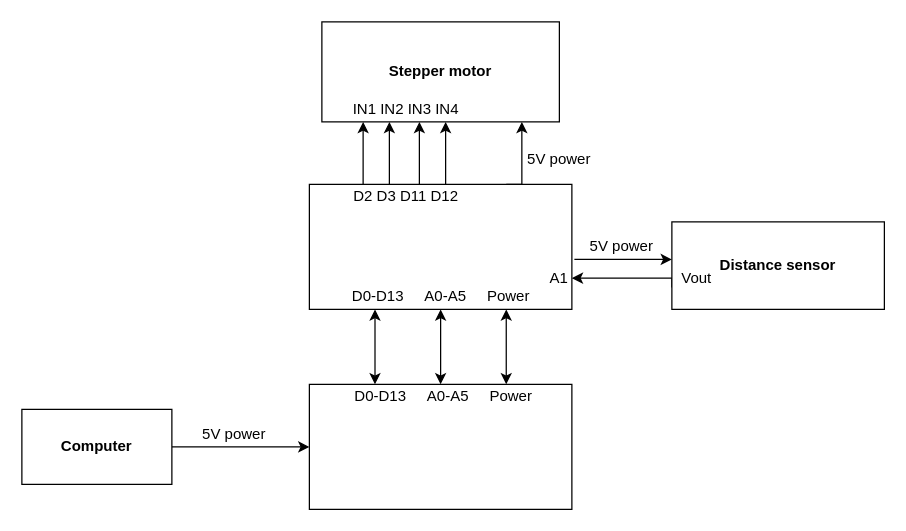
This 906x531 diagram has some shape labels left out. Here are the shapes that lost their labels. From the top down, the box of each, then its label:
(308, 183, 572, 309): LCD Shield
(308, 383, 572, 509): Arduino
